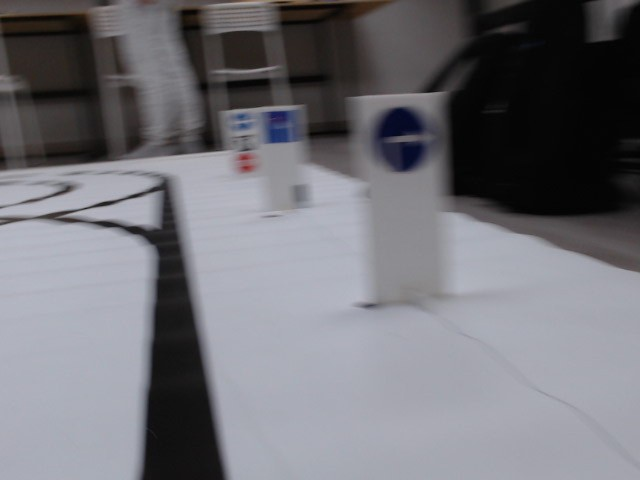Right: (369, 108, 433, 178)
